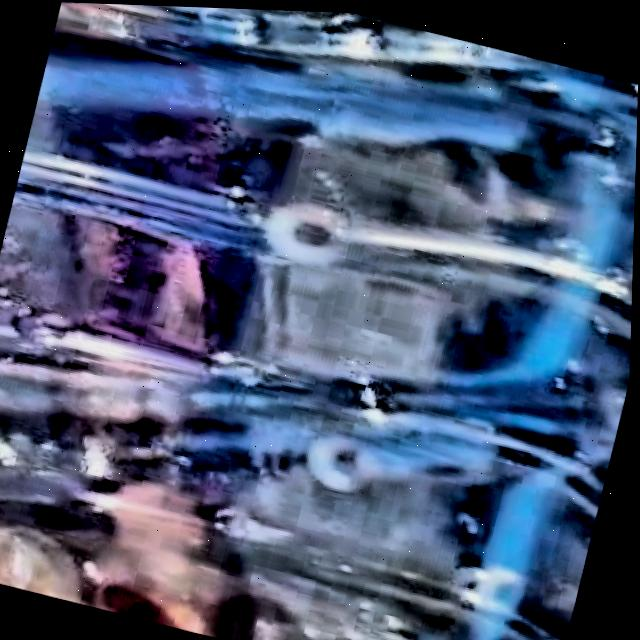plastic: (0, 2, 639, 640)
